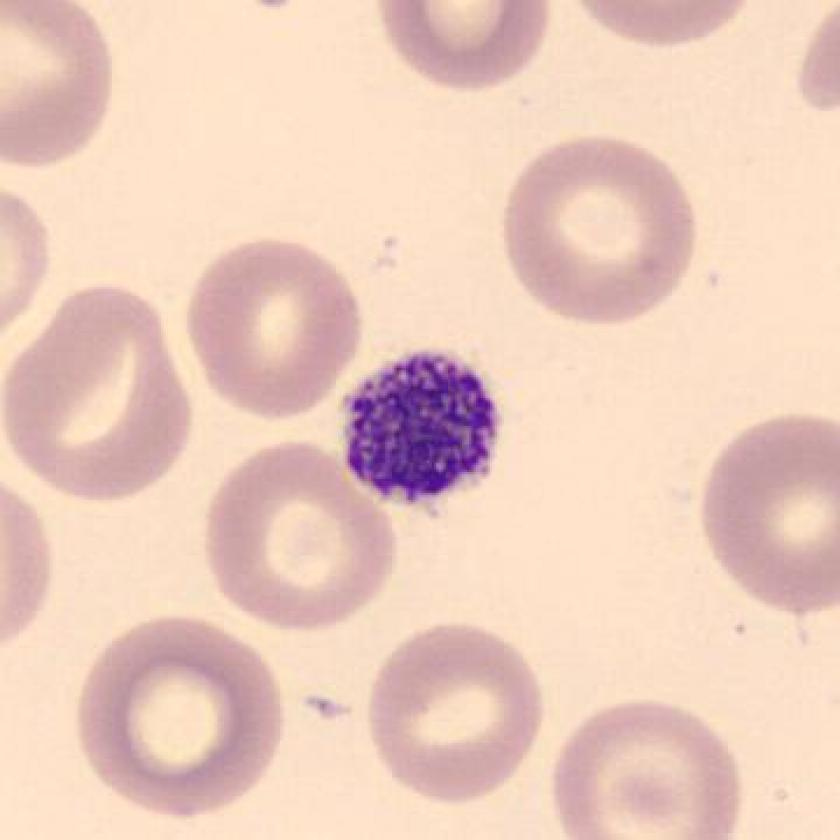platelets: (332, 339, 512, 524)
